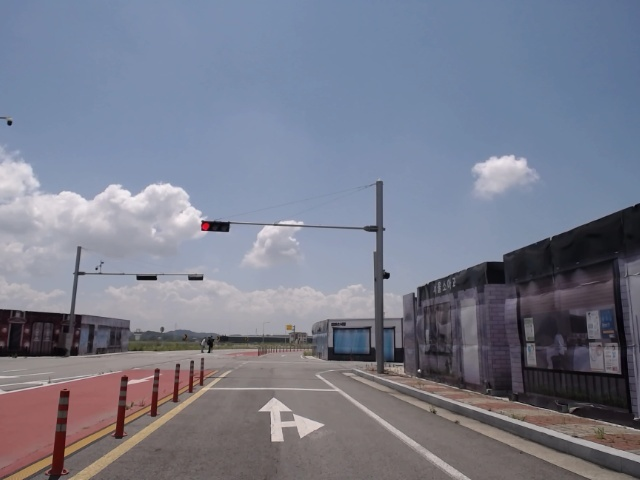red_3: (200, 223, 231, 232)
